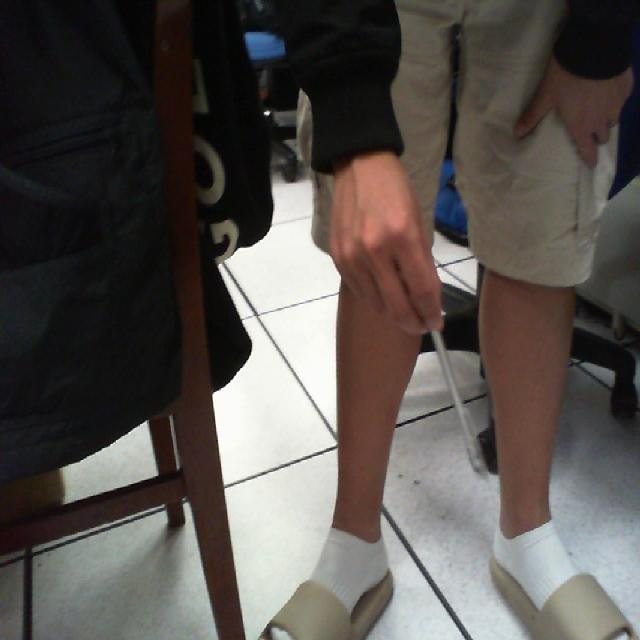Pen: (424, 307, 498, 526)
